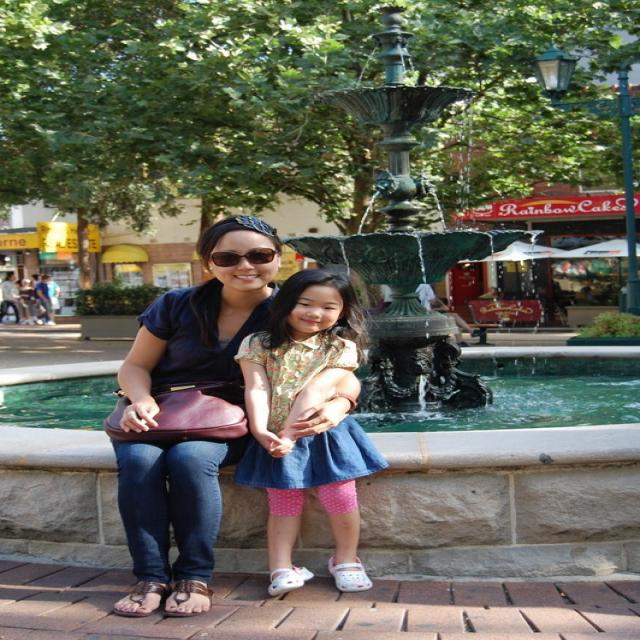body: (100, 210, 368, 622), (231, 266, 380, 596), (0, 272, 24, 326), (32, 274, 56, 326), (42, 273, 63, 326), (17, 278, 37, 326), (30, 273, 41, 287)
